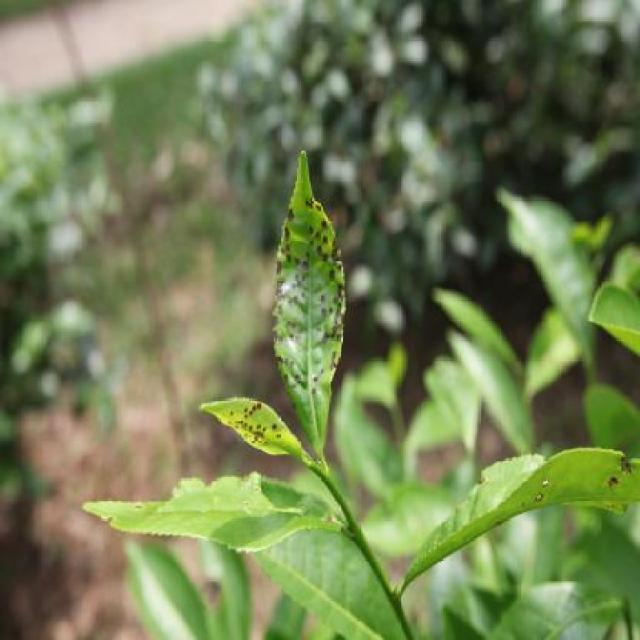Tea Mosquito bug infested leaf: (259, 151, 343, 454), (198, 378, 314, 471)
